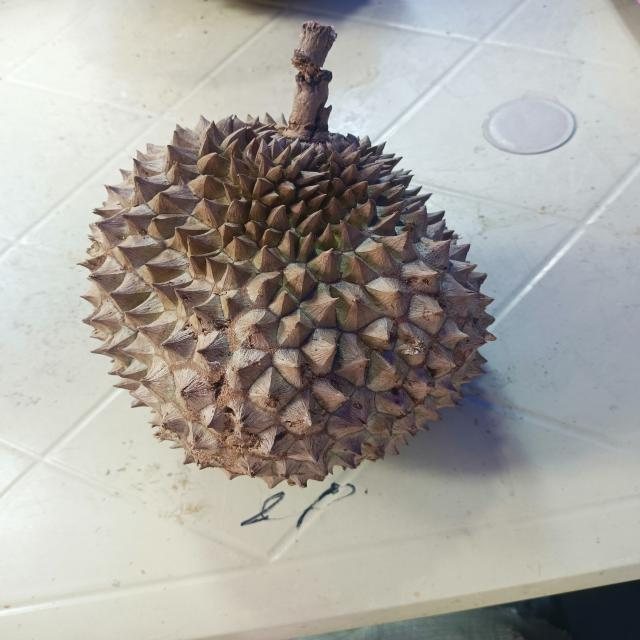mature: (82, 22, 495, 488)
